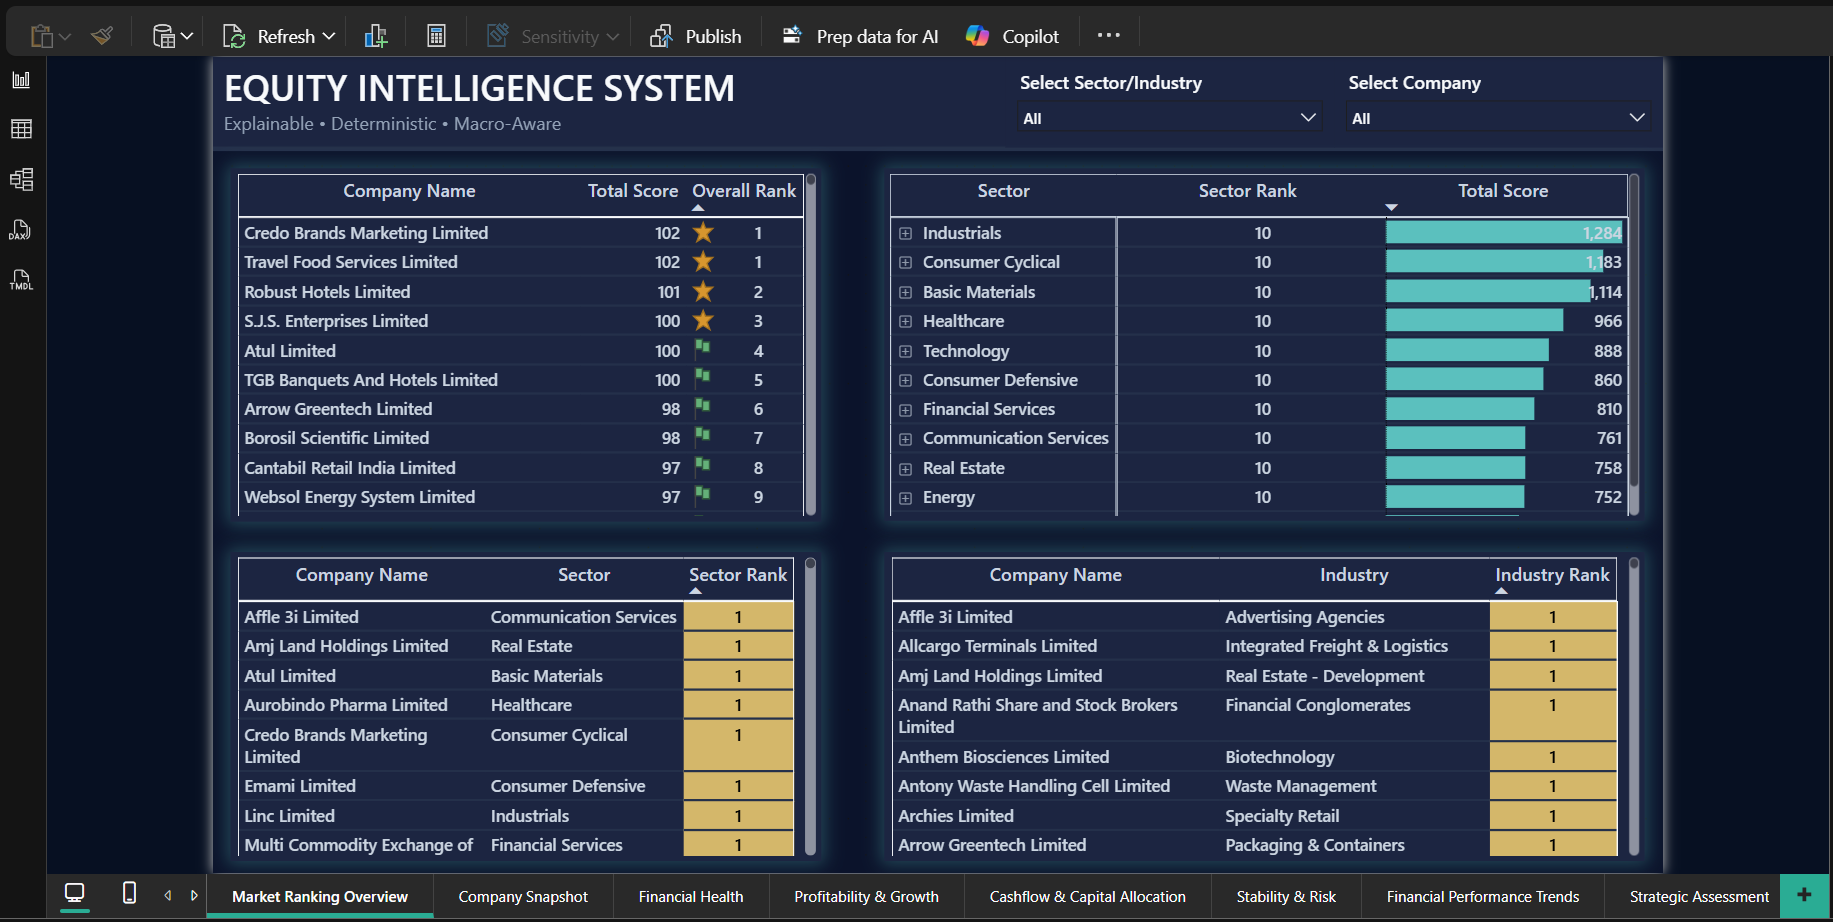

What the dashboard file says about the page in this screenshot:
{"tool":"powerbi","page":{"name":"Market Ranking Overview","canvas":[1280,720],"ordinal":0},"visuals":[{"type":"shape","box":[0,0,1280,80],"z":0,"group":"g1"},{"type":"textbox","box":[4,0,536,80],"z":1000,"group":"g1"},{"type":"tableEx","fields":{"Values":["gold_equity_basemetrics.company_name","gold_equity_basemetrics.sector","gold_scoring_engine.rank_by_sector"]},"box":[15.7,437.1,521.4,272.9],"z":3000},{"type":"shape","box":[0,67.5,1280,27.5],"z":4000,"group":"g1"},{"type":"slicer","fields":{"Values":["gold_equity_basemetrics.company_name"]},"box":[990,0,290,80],"z":4500,"group":"g1"},{"type":"slicer","fields":{"Values":["gold_equity_basemetrics.sector","gold_equity_basemetrics.industry"]},"box":[700,0,290,80],"z":5000,"group":"g1"},{"type":"group","id":"g1","title":"Group 1","box":[0,0,1280,95],"z":6503},{"type":"tableEx","fields":{"Values":["gold_equity_basemetrics.company_name","gold_scoring_engine.total_score","gold_scoring_engine.rank_by_total_score"]},"box":[15,98.3,521.7,311.7],"z":7003},{"type":"pivotTable","fields":{"Rows":["gold_equity_basemetrics.sector","gold_equity_basemetrics.company_name"],"Values":["Max(gold_scoring_engine.rank_by_sector)","Sum(gold_scoring_engine.total_score)"]},"box":[592.9,98.6,671.4,311.4],"z":7503},{"type":"tableEx","fields":{"Values":["gold_equity_basemetrics.company_name","gold_equity_basemetrics.industry","gold_scoring_engine.rank_by_industry"]},"box":[592.9,437.1,671.4,272.9],"z":8003}]}

Visuals, with their boxes on the page's 1280x720 design canvas (x1, y1, x2, y2). These are canvas units, not pixel positions in the 1833x922 screenshot, which may show the page scaled, cropped or inside an application window:
shape: 0,0,1280,80
textbox: 4,0,540,80
tableEx - gold_equity_basemetrics.company_name x gold_equity_basemetrics.sector: 16,437,537,710
shape: 0,68,1280,95
slicer - gold_equity_basemetrics.company_name: 990,0,1280,80
slicer - gold_equity_basemetrics.sector x gold_equity_basemetrics.industry: 700,0,990,80
"Group 1" group: 0,0,1280,95
tableEx - gold_equity_basemetrics.company_name x gold_scoring_engine.total_score: 15,98,537,410
pivotTable - gold_equity_basemetrics.sector x gold_equity_basemetrics.company_name: 593,99,1264,410
tableEx - gold_equity_basemetrics.company_name x gold_equity_basemetrics.industry: 593,437,1264,710
